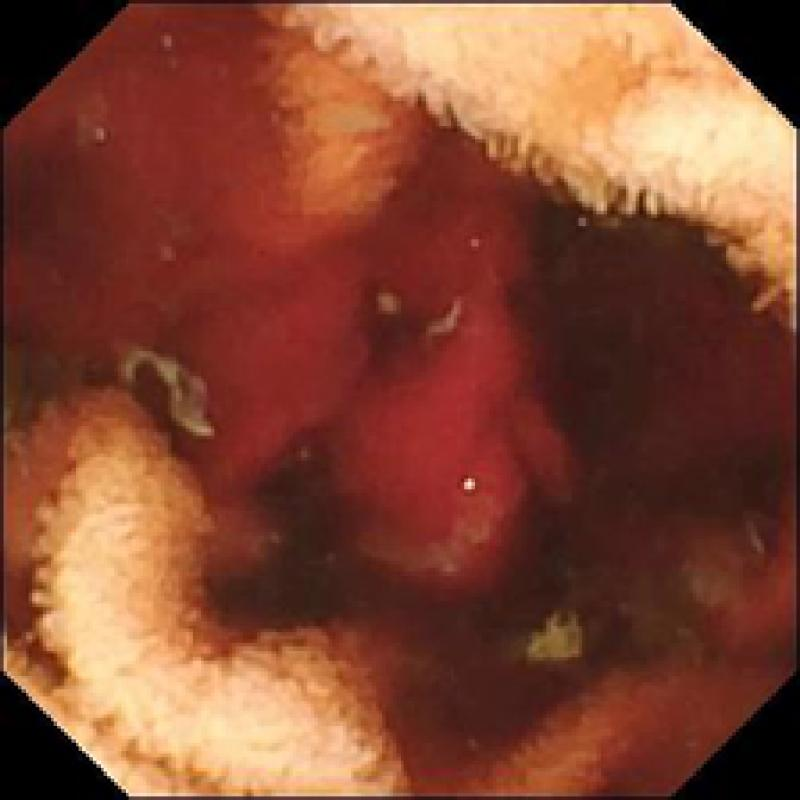bleeding: (146, 172, 568, 572)
